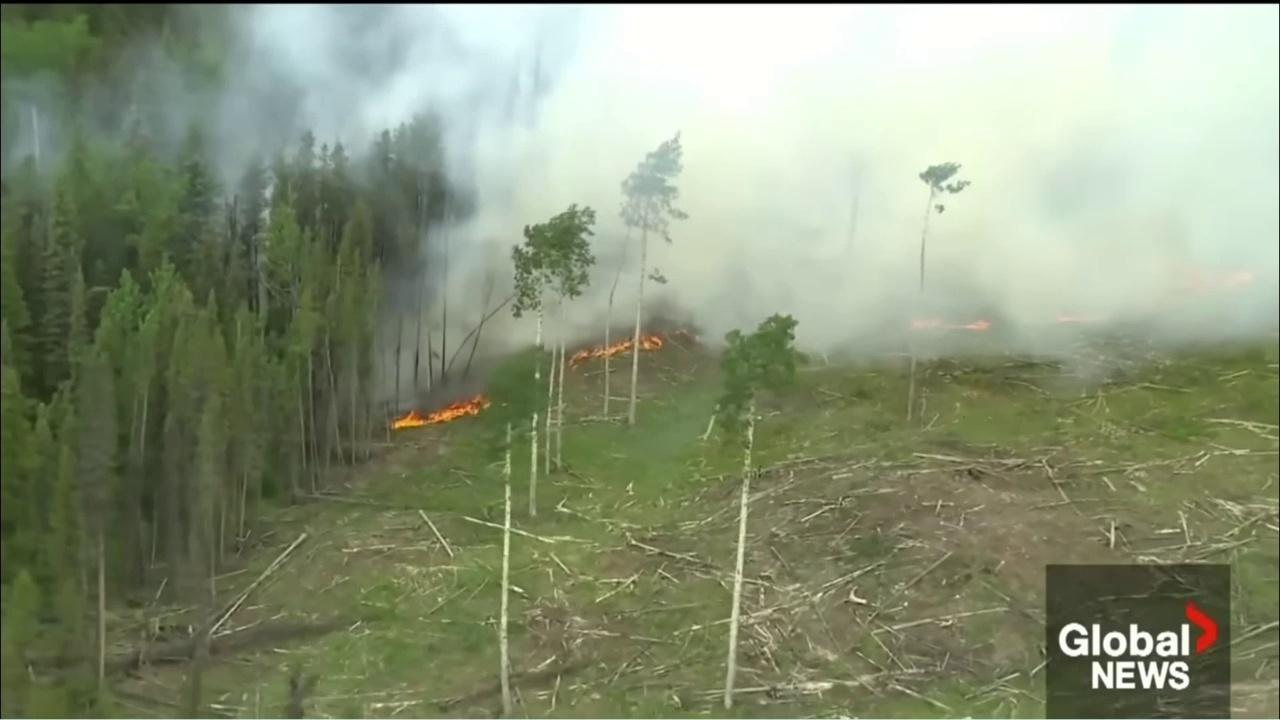fire: (387, 389, 493, 431), (567, 333, 663, 372), (908, 315, 947, 330), (959, 318, 992, 331), (1054, 314, 1083, 324)
smoke: (1, 4, 1279, 413)
